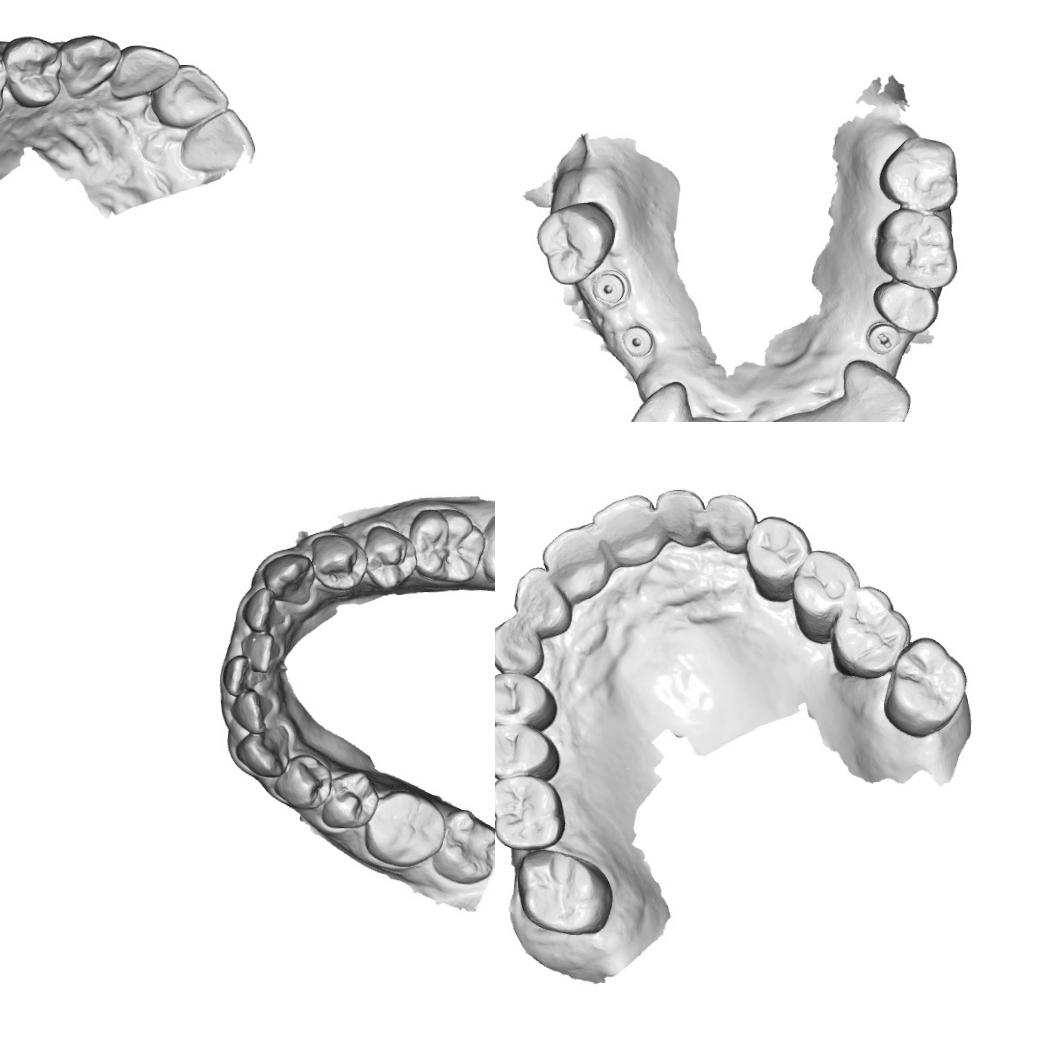canine: (843, 356, 913, 422), (58, 32, 124, 98), (700, 486, 759, 558), (495, 613, 547, 679), (621, 377, 692, 422), (233, 726, 292, 780), (260, 552, 316, 607)
implant: (590, 269, 630, 308), (618, 322, 656, 360)
implant_minus: (864, 324, 902, 359)
incisor: (588, 490, 662, 570), (150, 60, 232, 130), (539, 524, 612, 602), (178, 106, 258, 177), (107, 38, 183, 104), (507, 566, 573, 638), (654, 486, 708, 552), (239, 586, 286, 632), (227, 688, 269, 735), (238, 630, 282, 674), (220, 653, 255, 698)
molar: (881, 634, 971, 740), (514, 845, 616, 937), (829, 584, 914, 683), (870, 206, 960, 294), (533, 200, 618, 288), (875, 133, 961, 214), (362, 787, 448, 868), (408, 505, 488, 584), (495, 775, 565, 852), (429, 806, 495, 886), (480, 510, 495, 587)
premolar: (788, 548, 862, 628), (742, 514, 812, 598), (3, 33, 64, 111), (495, 720, 562, 781), (870, 278, 940, 336), (361, 524, 420, 591), (319, 769, 380, 830), (495, 669, 558, 728), (310, 531, 370, 592), (272, 752, 334, 811)
